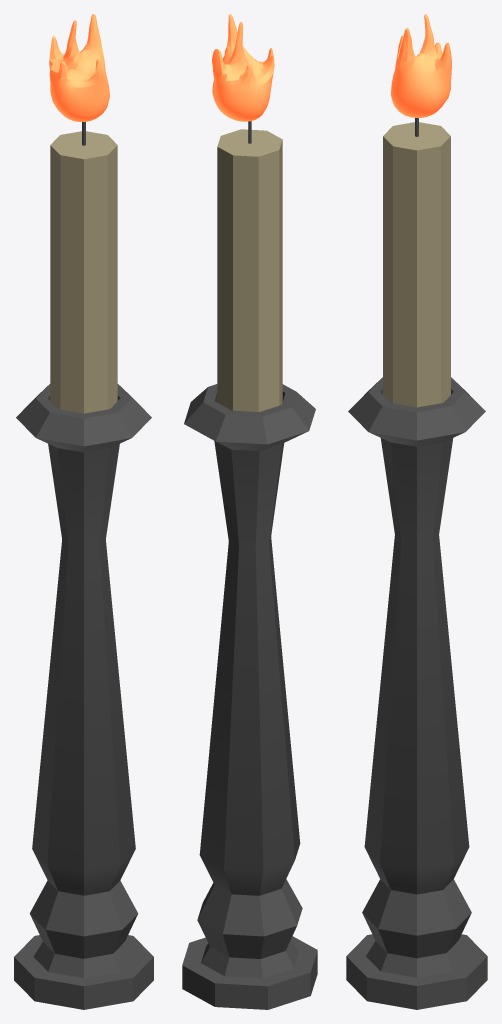
File: Candelabro 2.fbx
The picture shows the model from 3 angles, left to right: view 1: azimuth 90°, elevation 25°; view 2: azimuth 150°, elevation 25°; view 3: azimuth 270°, elevation 25°; orthographic projection.
Visible parts, largest first — view 1: candelabro piccolo; view 2: candelabro piccolo; view 3: candelabro piccolo.
Part boxes in pixels (x1=…): candelabro piccolo: x1=14, y1=14, x2=153, y2=1009; candelabro piccolo: x1=182, y1=14, x2=317, y2=1009; candelabro piccolo: x1=346, y1=14, x2=487, y2=1009.
Bounding box in the file's own units: 12.17 × 92.03 × 12.17.
